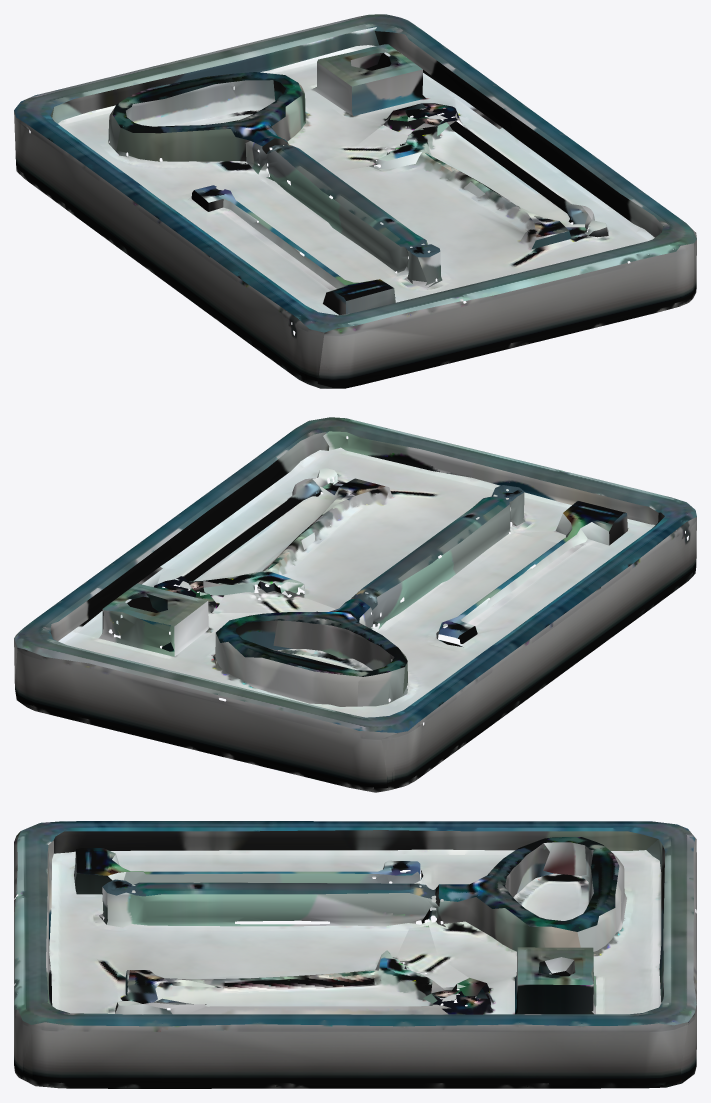
Rendered from Lockpick.glb.
3 views of the same model, one above another, from view 1: azimuth 30°, elevation 25°; view 2: azimuth 150°, elevation 25°; view 3: azimuth 270°, elevation 25° (orthographic). The views are drawn at different scales.
Parts seen in each view (by area): view 1: temp_mesh.ply; view 2: temp_mesh.ply; view 3: temp_mesh.ply.
Boxes of the visible parts, bbox=[...] form: temp_mesh.ply: bbox=[14, 14, 696, 388]; temp_mesh.ply: bbox=[14, 417, 696, 792]; temp_mesh.ply: bbox=[14, 821, 696, 1088].
Size of the model in its own units: 0.0856 by 0.0158 by 0.12.
1 material, 1 textured.
